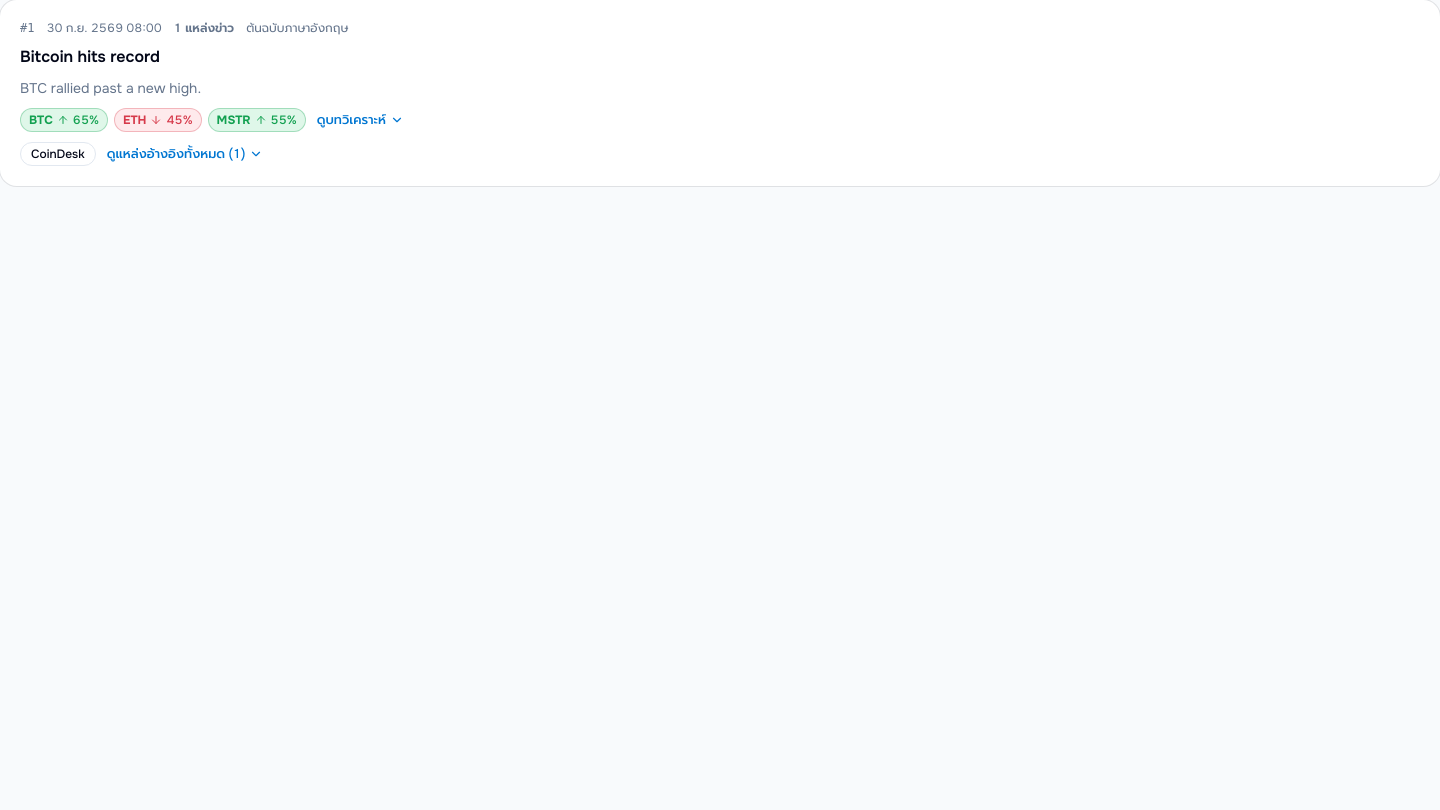
Test: AI analysis on a news card › the chart side › offers every asset of the story, stock included, and reads only the one picked — apart from the news side
Click the button "ดูบทวิเคราะห์": click(360, 120) [312,108,409,132]
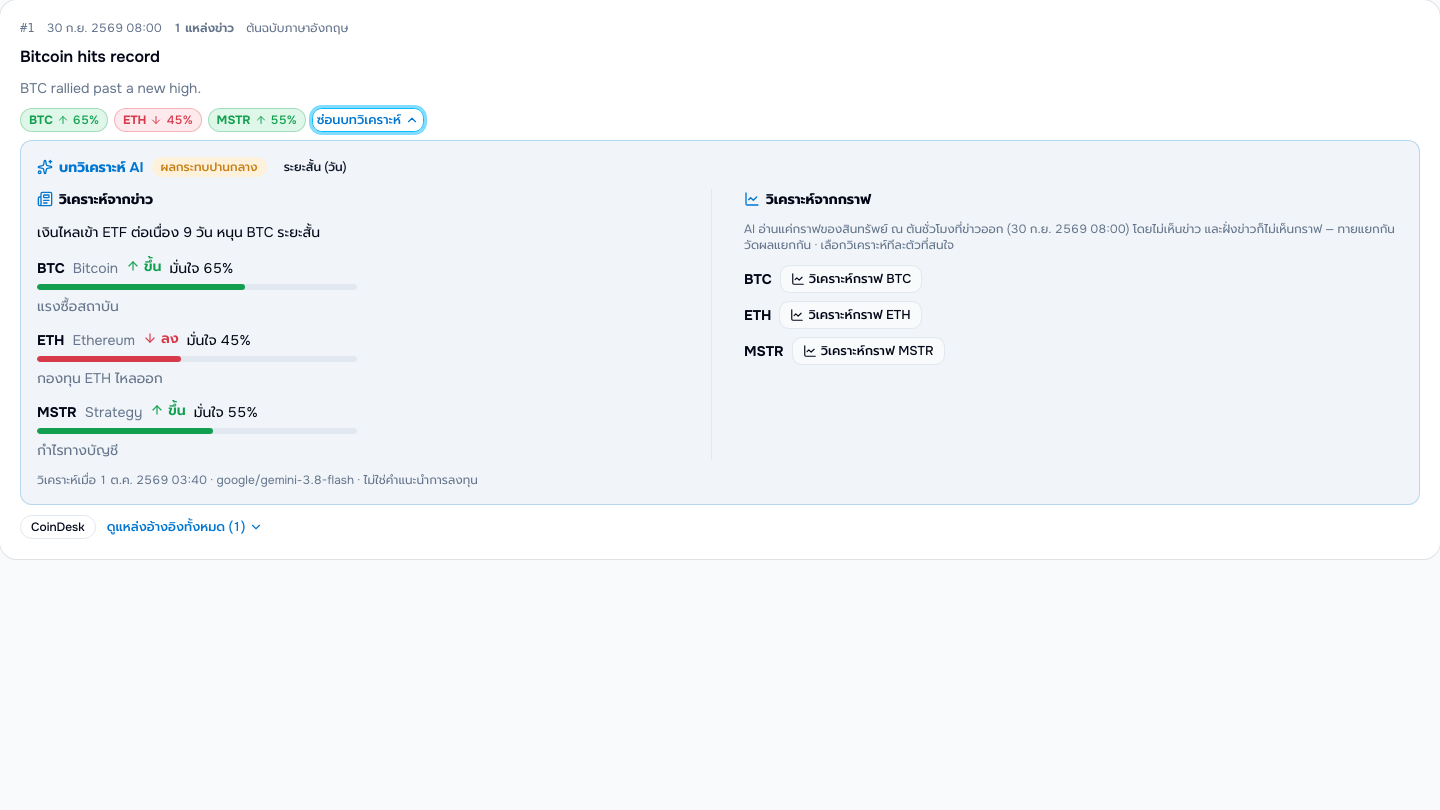
Result: the button "วิเคราะห์กราฟ MSTR" is shown at [792,337,945,365]
Click the button "วิเคราะห์กราฟ BTC": click(851, 279) [780,265,922,293]
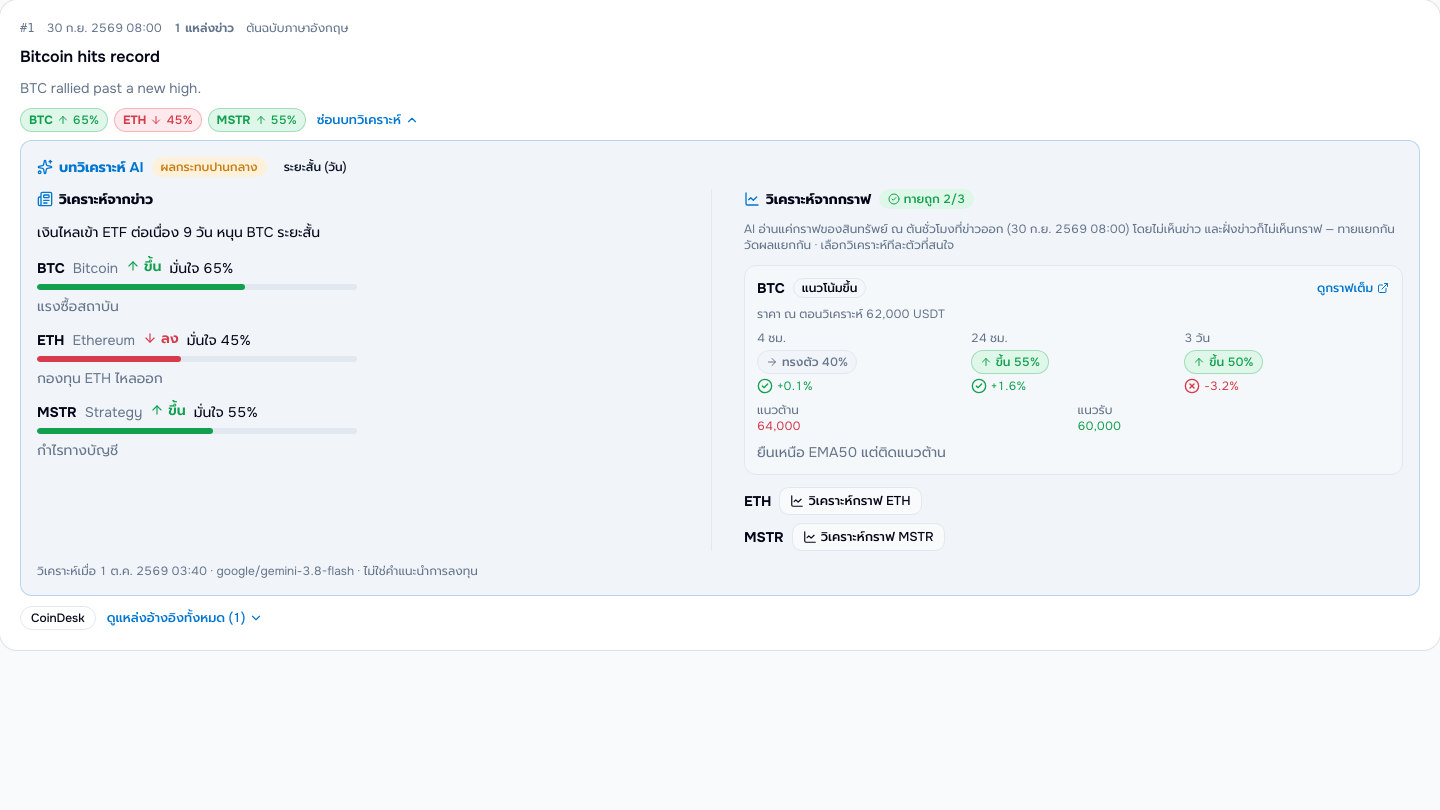
Result: the text "ราคา ณ ตอนวิเคราะห์ 62,000 USDT" is shown at [757,306,945,322]
Result: the text "64,000" is shown at [757,418,801,434]
Result: the text "-3.2%" is shown at [1204,378,1239,394]
